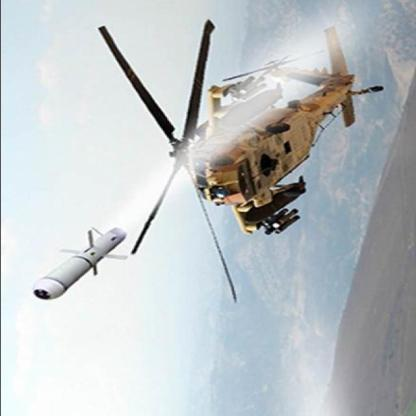MIL_TBM: (23, 216, 134, 303)
